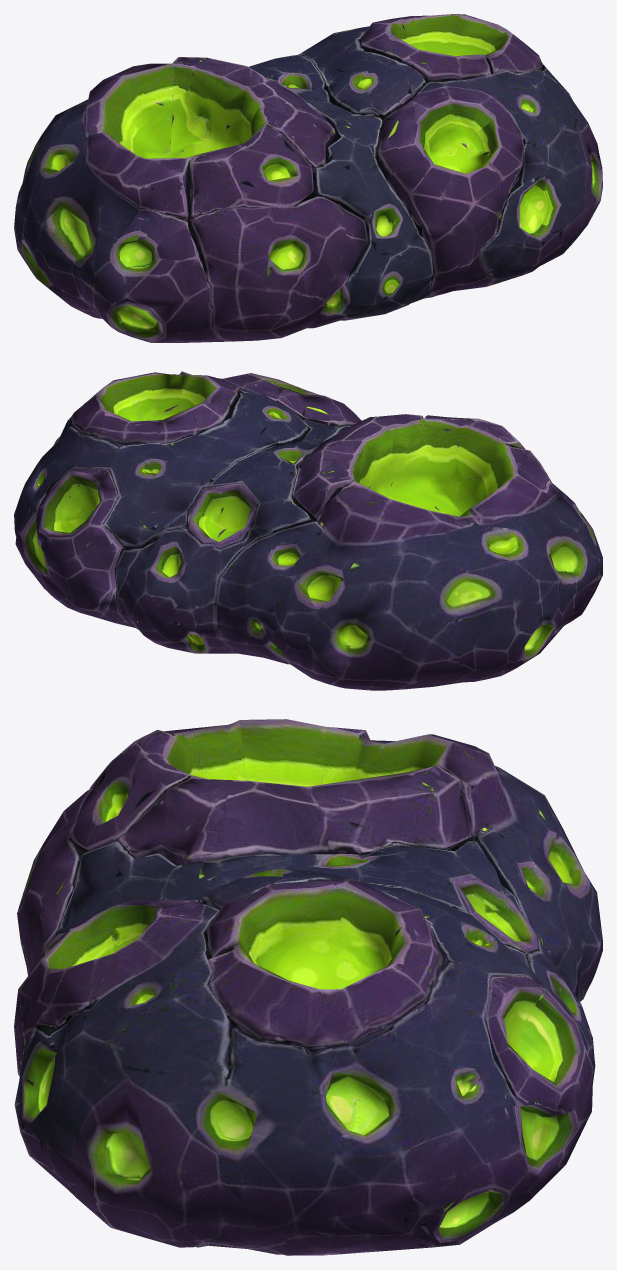
Rendered from asteroid-potato.glb.
3 renders of one model, top to bottom at view 1: azimuth 30°, elevation 25°; view 2: azimuth 150°, elevation 25°; view 3: azimuth 270°, elevation 25°, orthographic. The views are drawn at different scales.
Size of the model in its own units: 1.9 by 0.6754 by 1.25.
1 material, 1 textured.
